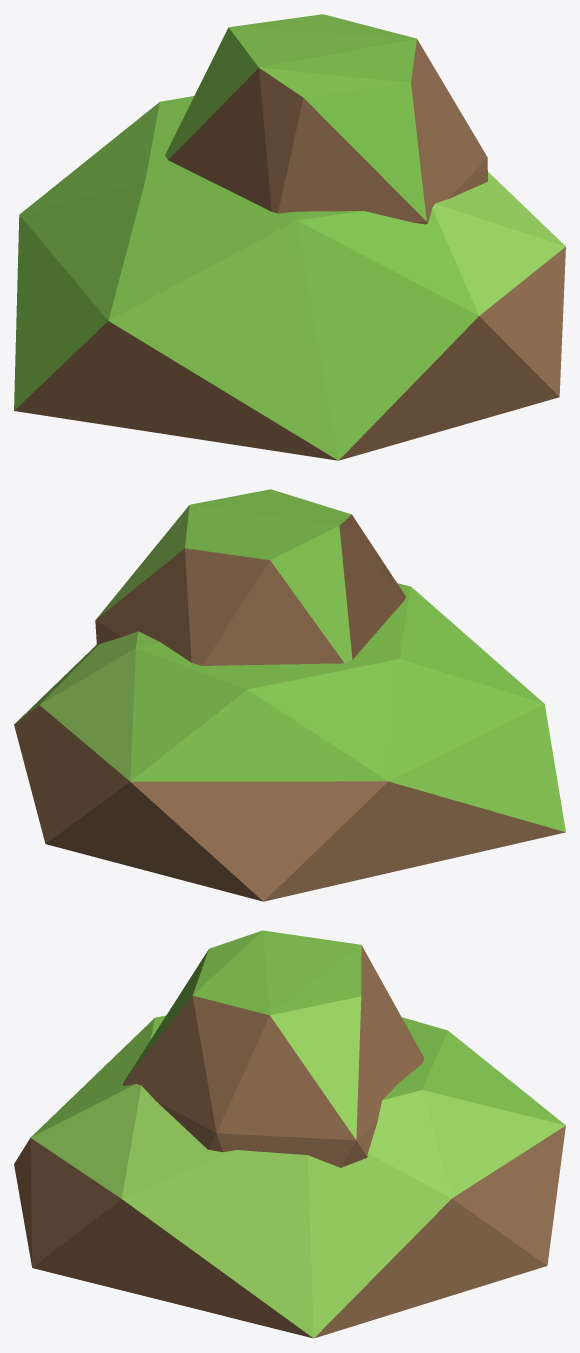
Rendered from rock_smallTopA.glb.
3 views of the same model, one above another, from view 1: azimuth 30°, elevation 25°; view 2: azimuth 150°, elevation 25°; view 3: azimuth 270°, elevation 25° (orthographic). The views are drawn at different scales.
Parts seen in each view (by area): view 1: rock_smallTopA; view 2: rock_smallTopA; view 3: rock_smallTopA.
Part boxes in pixels (left/top/right/bottom): rock_smallTopA: left=14, top=14, right=565, bottom=460; rock_smallTopA: left=14, top=489, right=565, bottom=901; rock_smallTopA: left=14, top=930, right=565, bottom=1338.
Size of the model in its own units: 0.4596 by 0.2125 by 0.411.
1 material, 1 textured.
